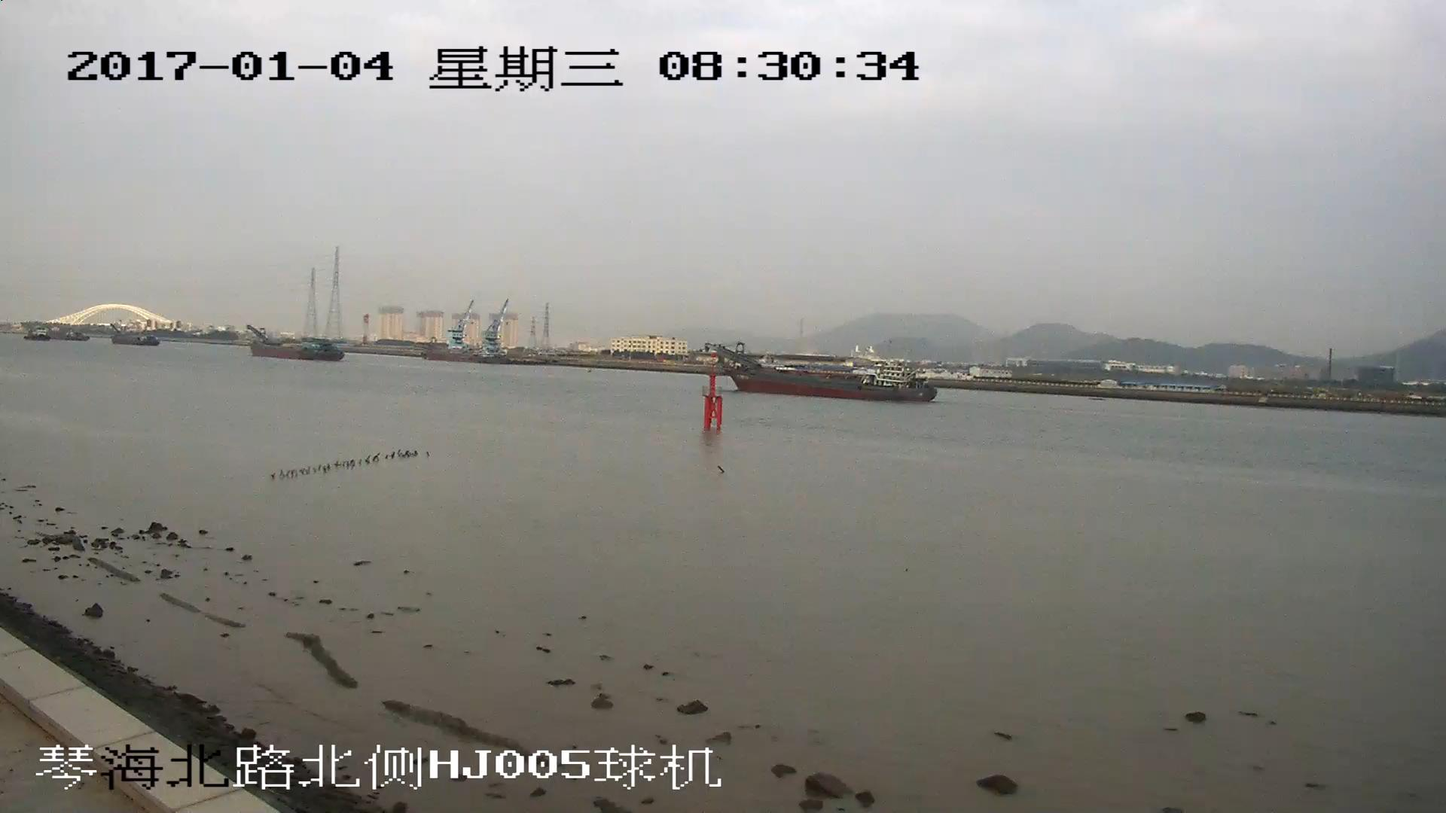bulk cargo carrier: (709, 343, 936, 400), (246, 324, 343, 359)
